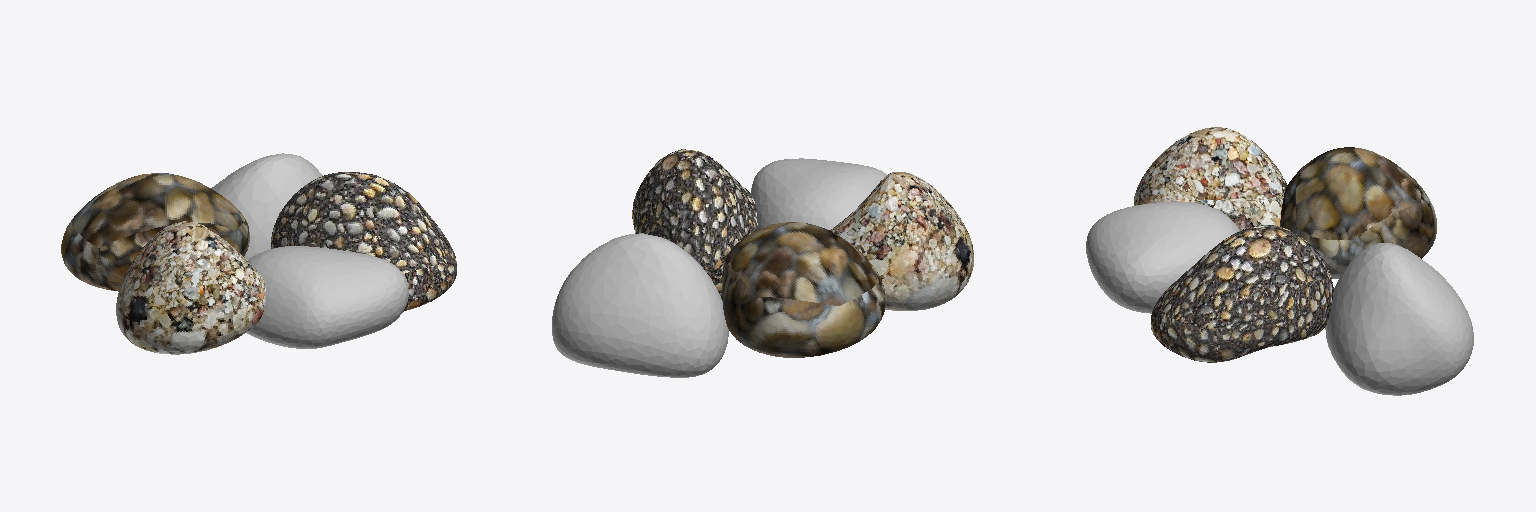
The picture shows the model from 3 angles: view 1: azimuth 30°, elevation 25°; view 2: azimuth 150°, elevation 25°; view 3: azimuth 270°, elevation 25°; orthographic projection.
Parts seen in each view (by area): view 1: Icosphere.007; view 2: Icosphere.007; view 3: Icosphere.007.
Part boxes in pixels (bbox=[...]): Icosphere.007: bbox=[61, 153, 456, 354]; Icosphere.007: bbox=[552, 149, 973, 377]; Icosphere.007: bbox=[1086, 127, 1473, 395].
Bounding box in the file's own units: 1.14 × 0.5309 × 1.18.
Materials: 5 (3 with a texture image).